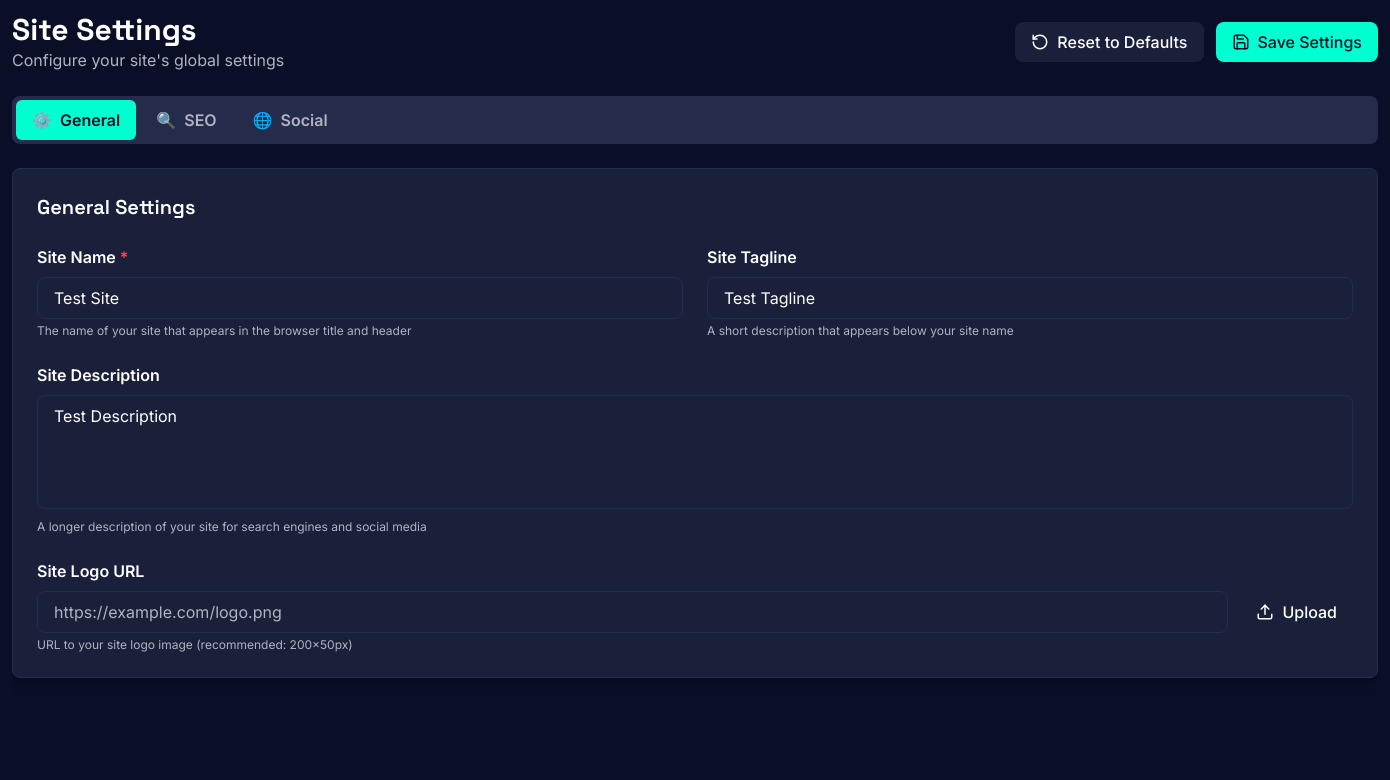
Test: SettingsForm › should show character limits for text fields
// Switch to SEO tab to see character limits
Click the button "🔍 SEO": (186, 120) x1=140 y1=100 x2=233 y2=140
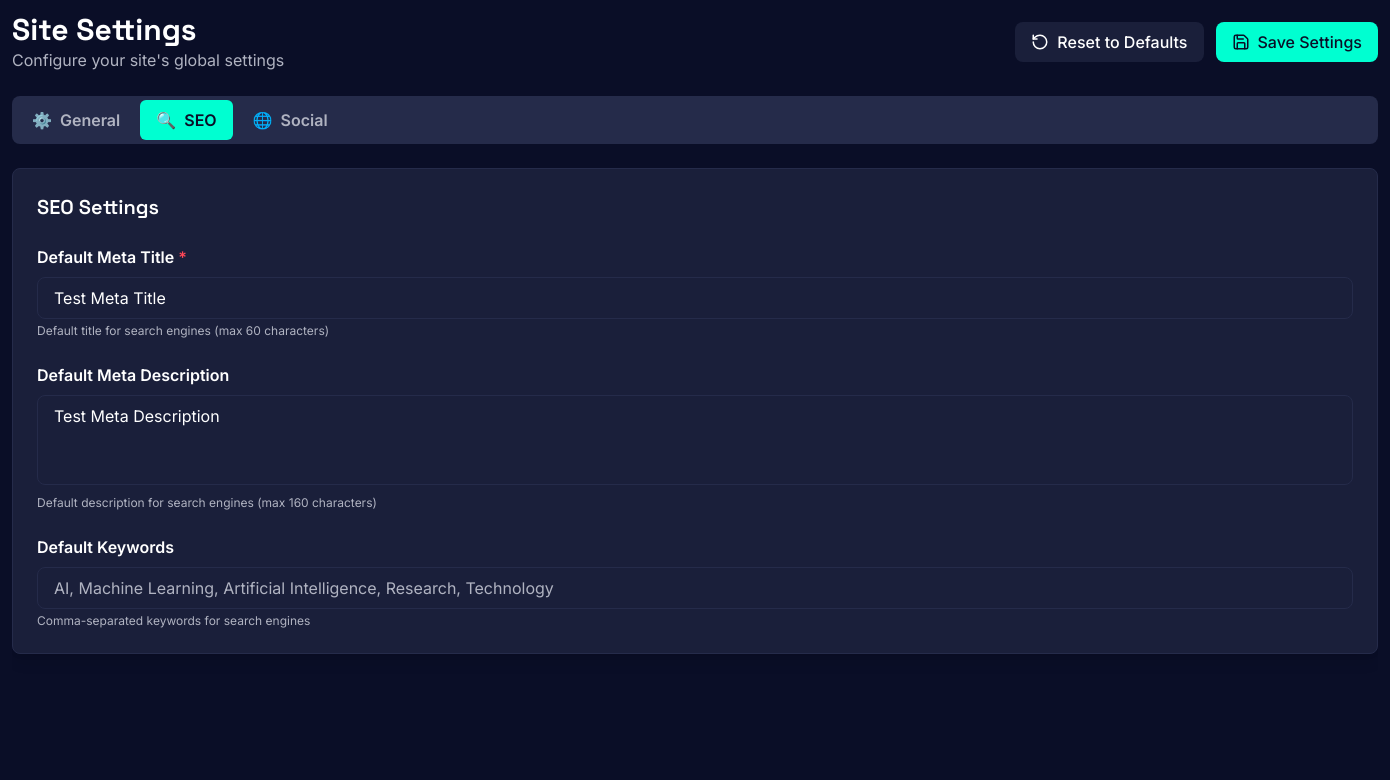
Expected: the text "Default title for search engines (max 60 characters)" is shown, x1=37 y1=323 x2=329 y2=338
Expected: the text "Default description for search engines (max 160 characters)" is shown, x1=37 y1=495 x2=377 y2=510
